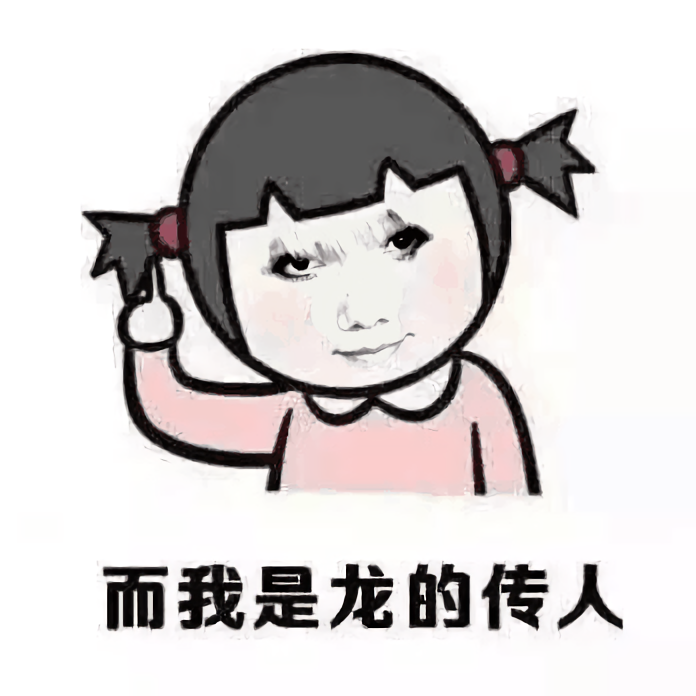dragon: (261, 225, 438, 367)
